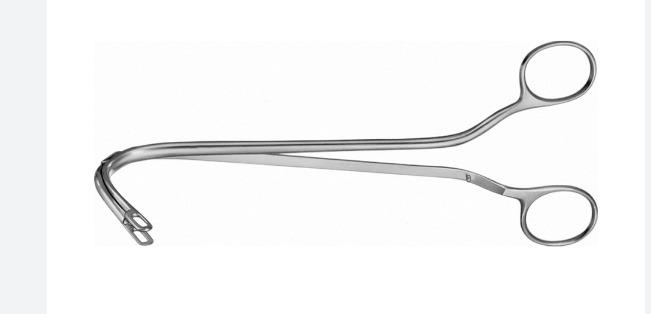Randall: (92, 35, 602, 254)
